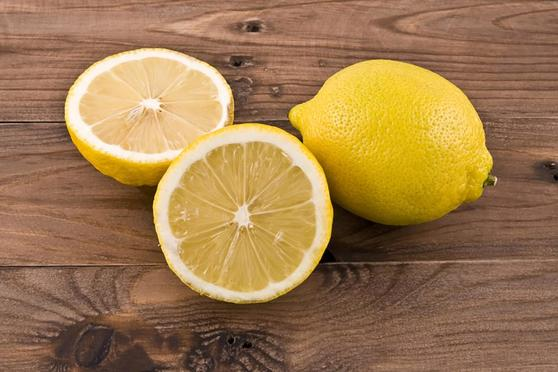lemon: (287, 58, 500, 232)
